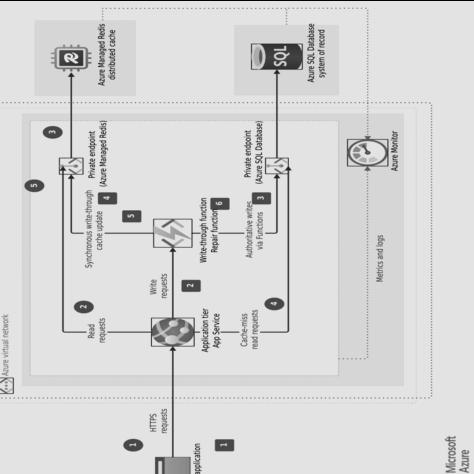actor: (155, 456, 191, 474)
compute: (150, 316, 197, 346), (150, 218, 197, 248)
data_flow: (108, 6, 364, 9), (74, 172, 78, 332), (286, 172, 290, 332), (365, 162, 368, 357), (172, 358, 176, 456), (365, 8, 368, 136), (198, 330, 306, 333), (69, 80, 73, 156), (274, 80, 278, 156), (80, 172, 85, 232), (172, 250, 176, 317), (260, 172, 264, 232), (76, 330, 150, 333), (76, 231, 150, 234), (199, 231, 263, 234)
database_storage: (251, 44, 302, 71), (53, 45, 89, 70)
network_security: (346, 137, 387, 167), (264, 156, 288, 176), (60, 156, 82, 176)
trust_boundary: (0, 103, 450, 397), (23, 114, 404, 375)
